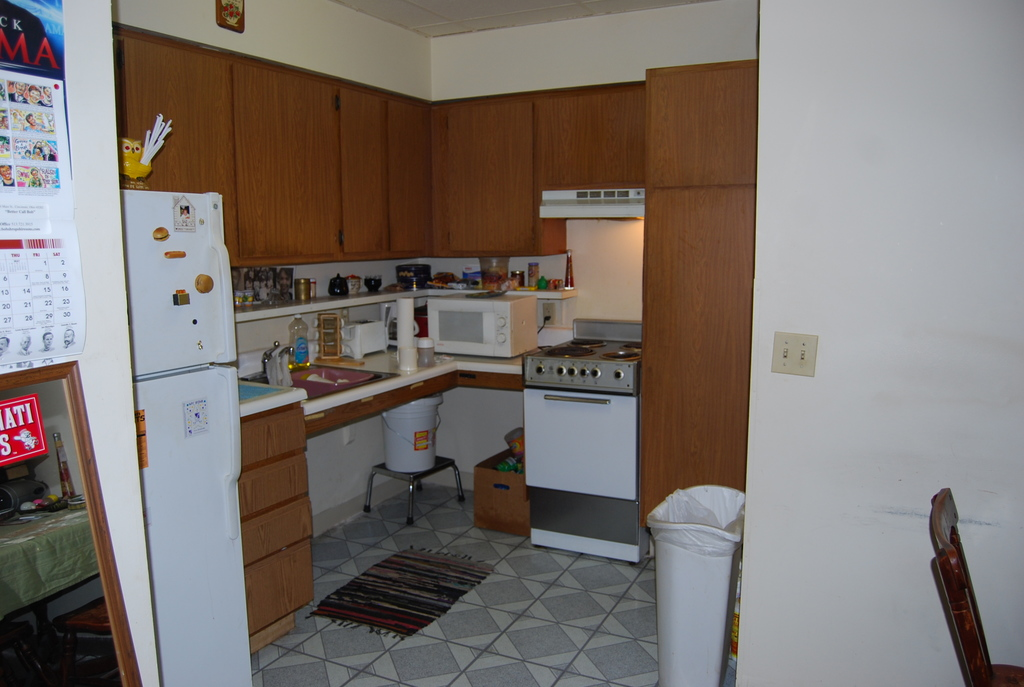cabinet door: (650, 206, 762, 471), (242, 73, 334, 245), (129, 47, 230, 186), (446, 114, 534, 243), (338, 94, 389, 247), (244, 552, 310, 600), (246, 508, 311, 543), (250, 421, 306, 453), (250, 463, 304, 495)
handle: (211, 368, 253, 508), (204, 235, 240, 364), (540, 388, 612, 410)
refrigerator door: (149, 391, 250, 681), (128, 198, 222, 359)
